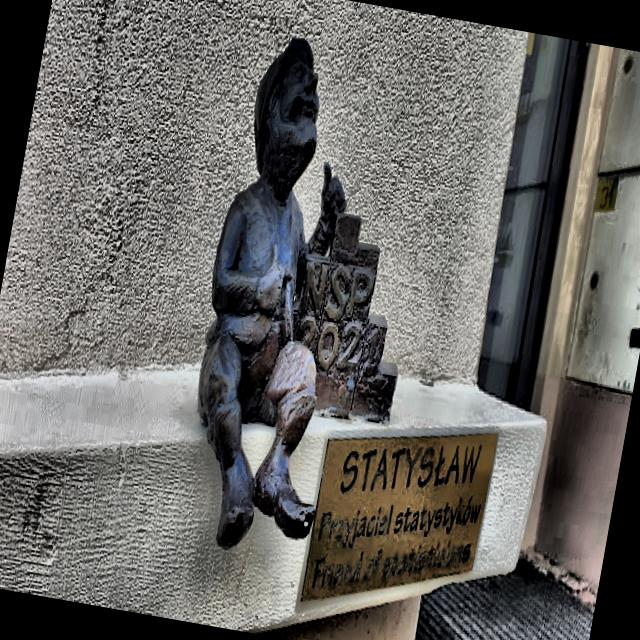Statyslaw: (198, 39, 397, 546)
